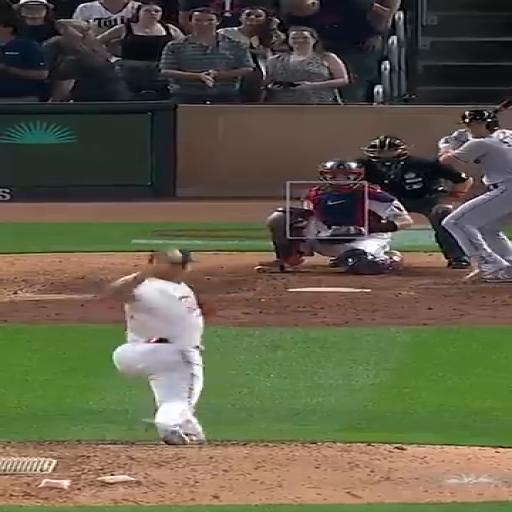bat: (493, 99, 511, 114)
